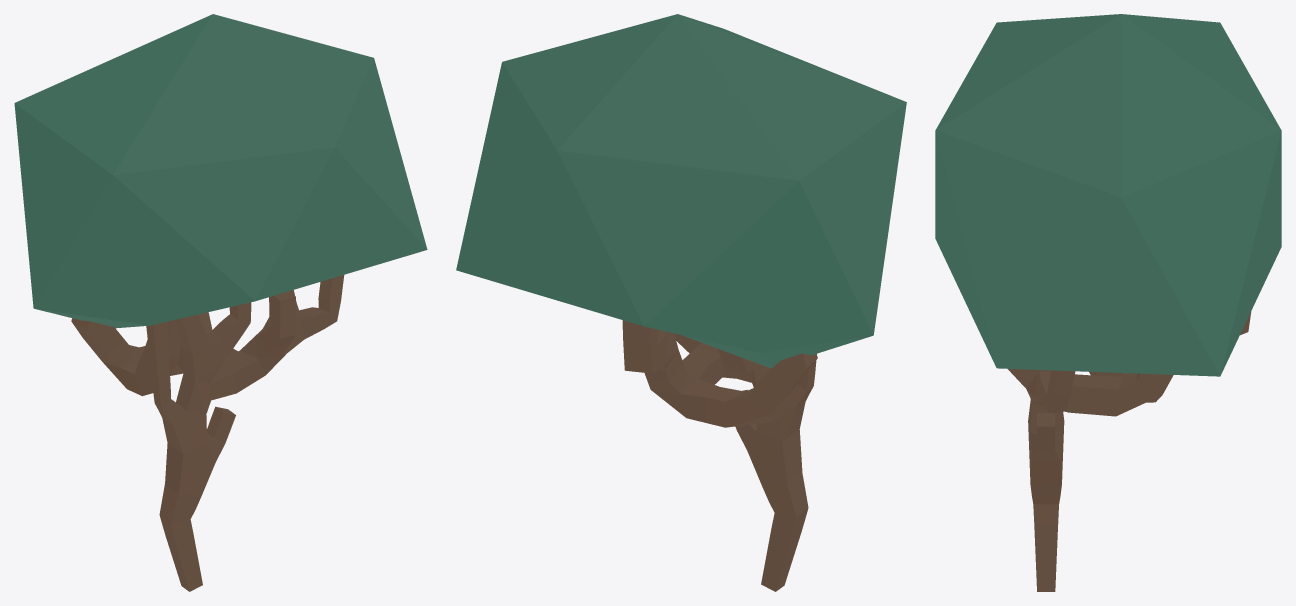
The model's file is arbre_type_02.glb.
The picture shows the model from 3 angles, left to right: view 1: azimuth 30°, elevation 25°; view 2: azimuth 150°, elevation 25°; view 3: azimuth 270°, elevation 25°; orthographic projection. The views are drawn at different scales.
Parts seen in each view (by area): view 1: Icosphere, Cube.001; view 2: Icosphere, Cube.001; view 3: Icosphere, Cube.001.
Boxes of the visible parts, left/top/right/bottom form: Icosphere: left=15, top=14, right=427, bottom=325; Cube.001: left=14, top=21, right=427, bottom=591; Icosphere: left=471, top=14, right=905, bottom=368; Cube.001: left=456, top=15, right=906, bottom=591; Icosphere: left=935, top=14, right=1281, bottom=376; Cube.001: left=935, top=16, right=1281, bottom=591.
Bounding box in the file's own units: 10.01 × 15.05 × 7.76.
